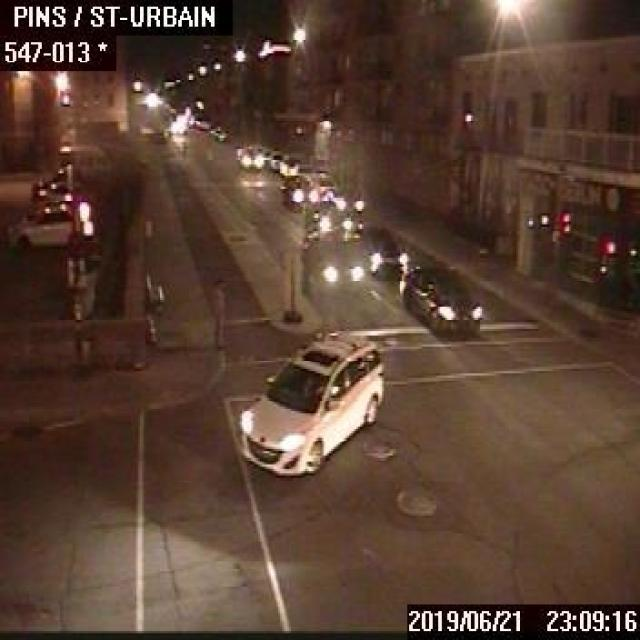pedestrian: (208, 274, 230, 349)
vehicle: (236, 330, 384, 480), (397, 262, 482, 336), (8, 201, 92, 250), (298, 234, 361, 286), (352, 223, 405, 278), (278, 172, 316, 208), (304, 204, 349, 234), (324, 187, 362, 211), (278, 152, 312, 174), (309, 171, 334, 198), (238, 148, 263, 168), (269, 149, 288, 168)
